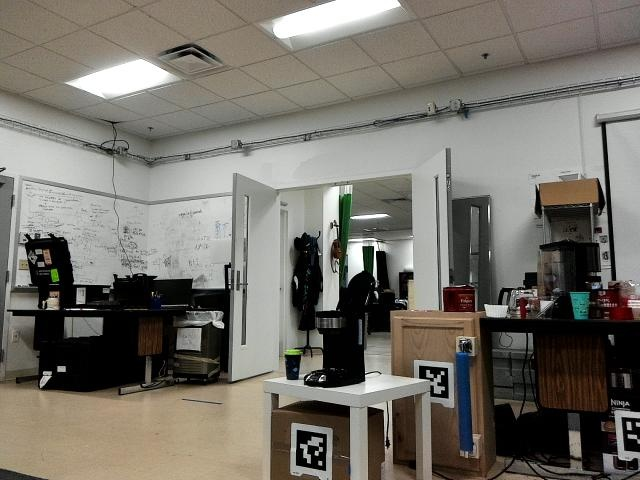coffee_cup: (568, 288, 590, 323)
noodle_handle: (451, 348, 480, 453)
useless_cup: (283, 350, 304, 382)
